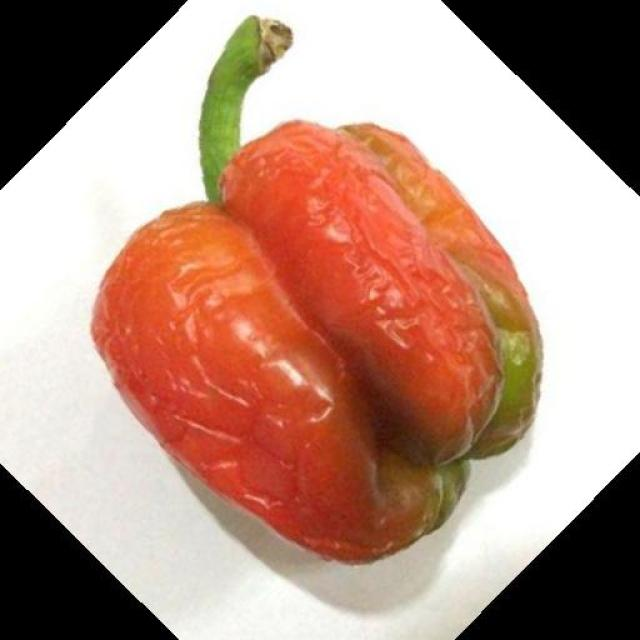Stale_Capsicum: (68, 112, 576, 548)
